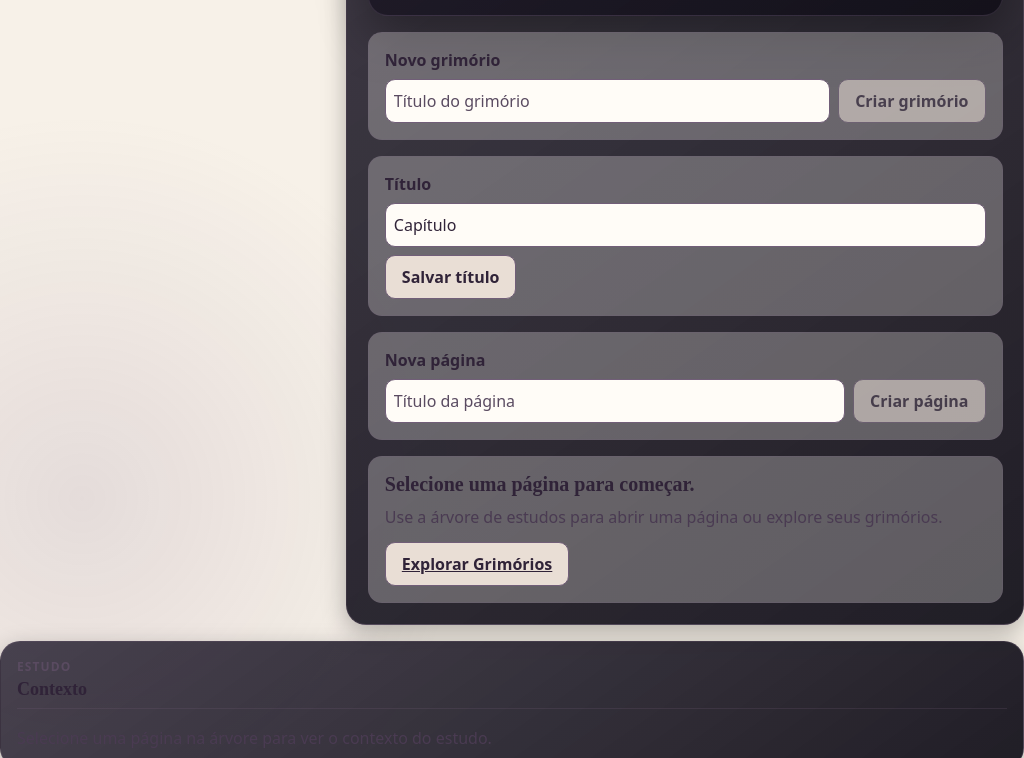
WorkspaceShell › updates the URL when a newly created page becomes selected and after it is deleted
(page scrolled)
Type "Nova página" into the field labelled "Nova página" at (615,401), box [385,379,845,423]
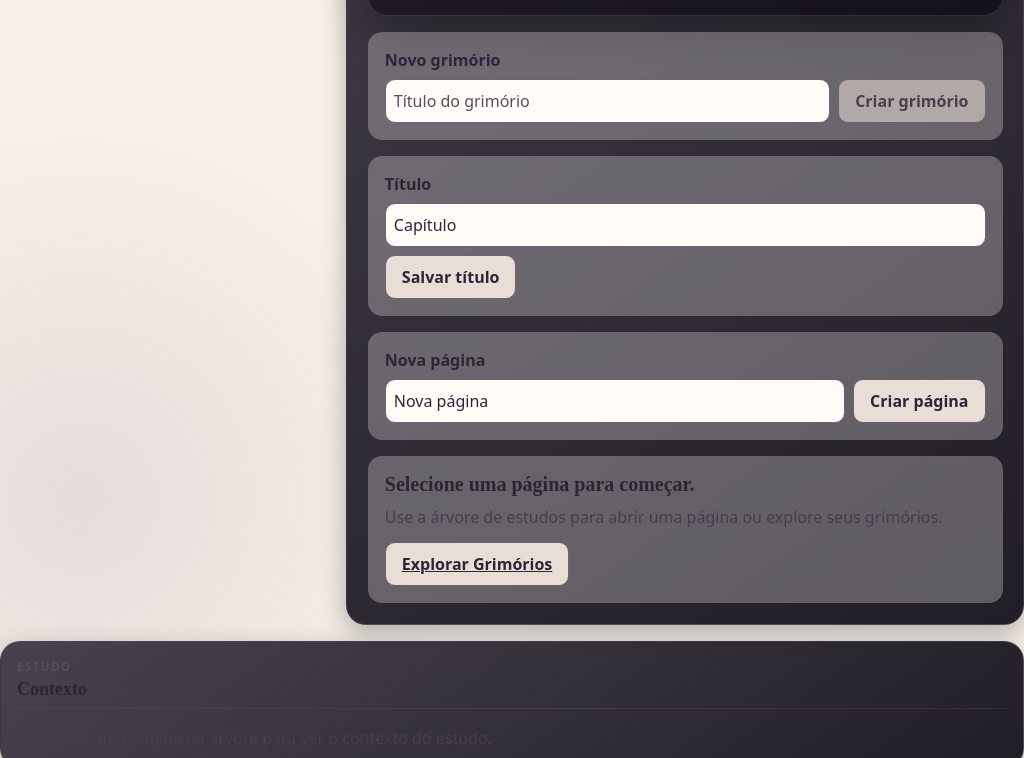
Click the button "Criar página" at (919,401), box [853,379,986,423]
(page scrolled)
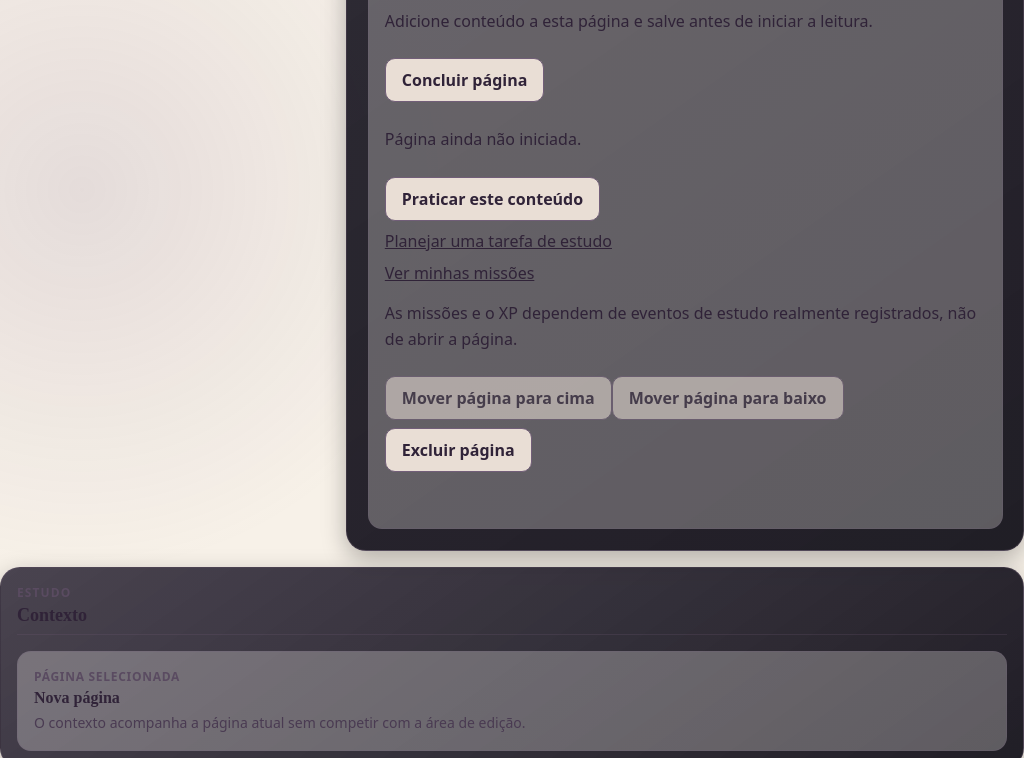
Click the button "Excluir página" at (458,450), box [385,428,532,472]
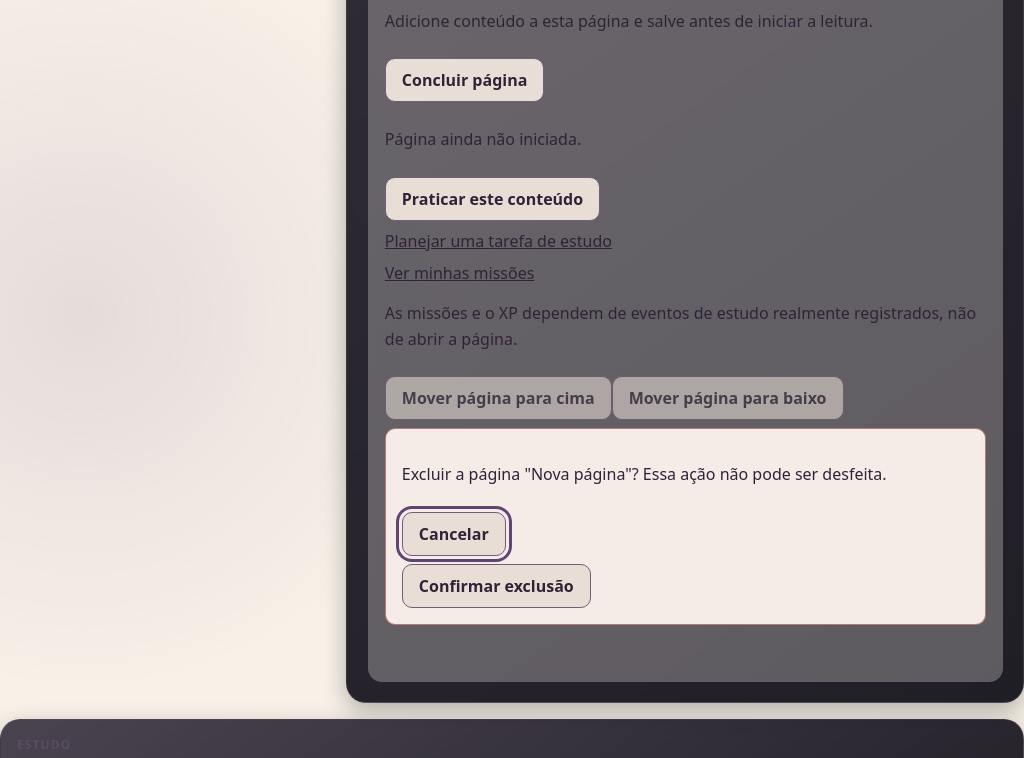
Click the button "Confirmar exclusão" at (496,586), box [402,564,591,608]
(page scrolled)
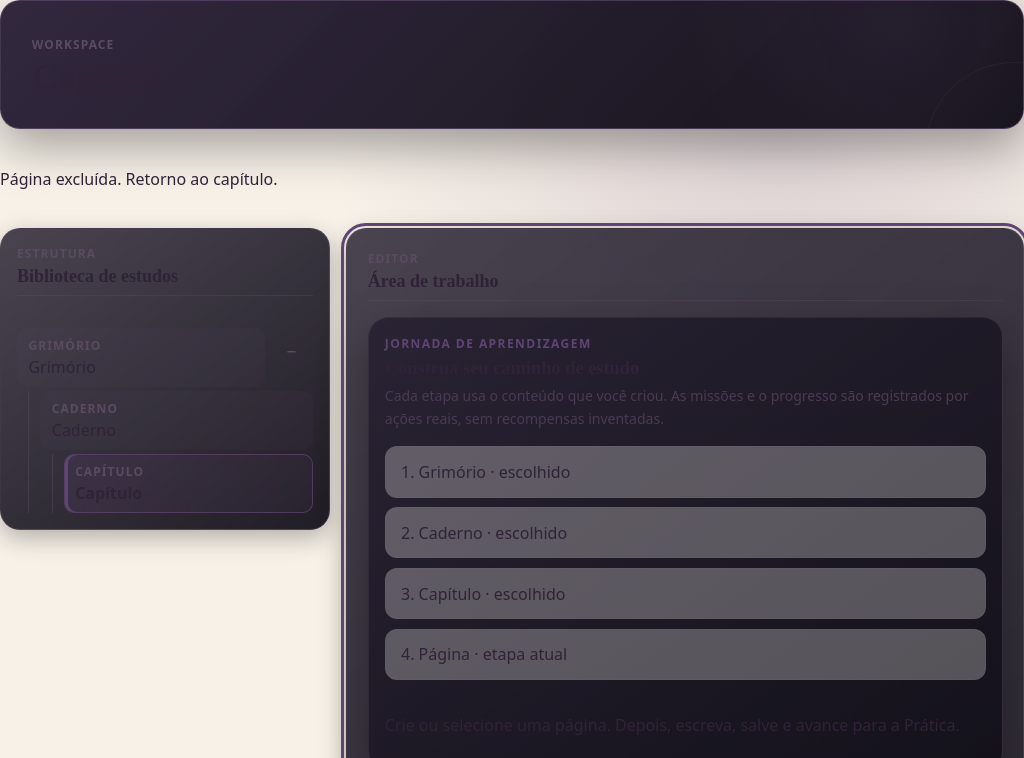
Expected: the dialog is gone
